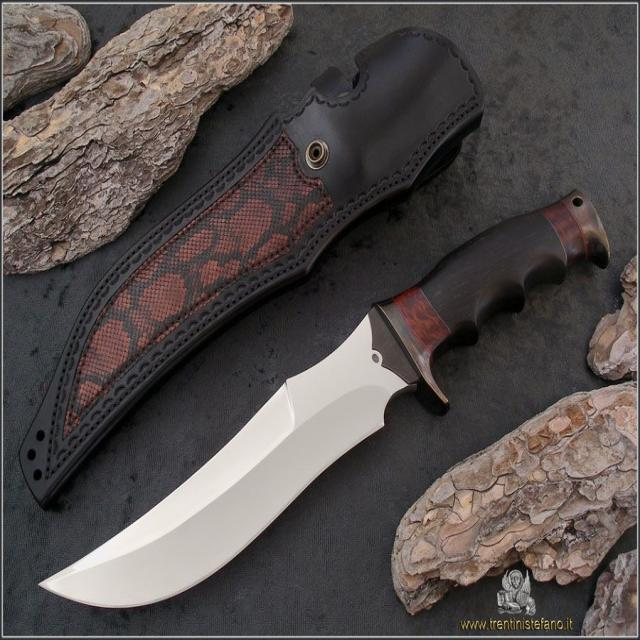Pisau: (30, 174, 617, 633)
